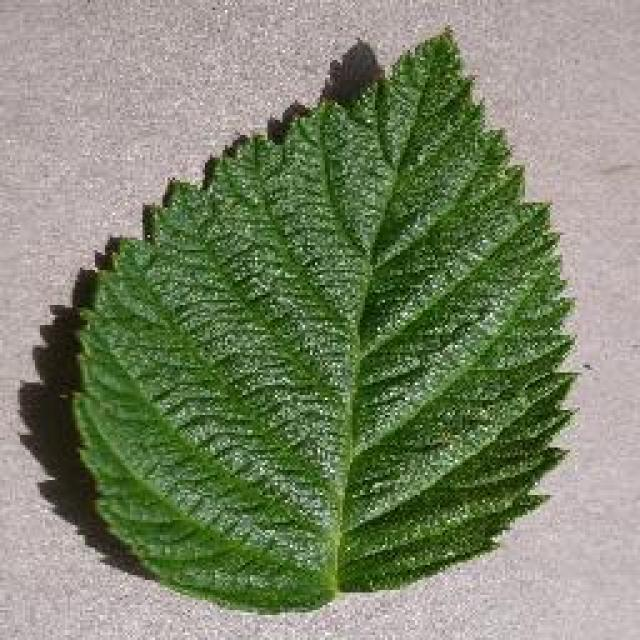Ras_healthy: (78, 108, 581, 570)
